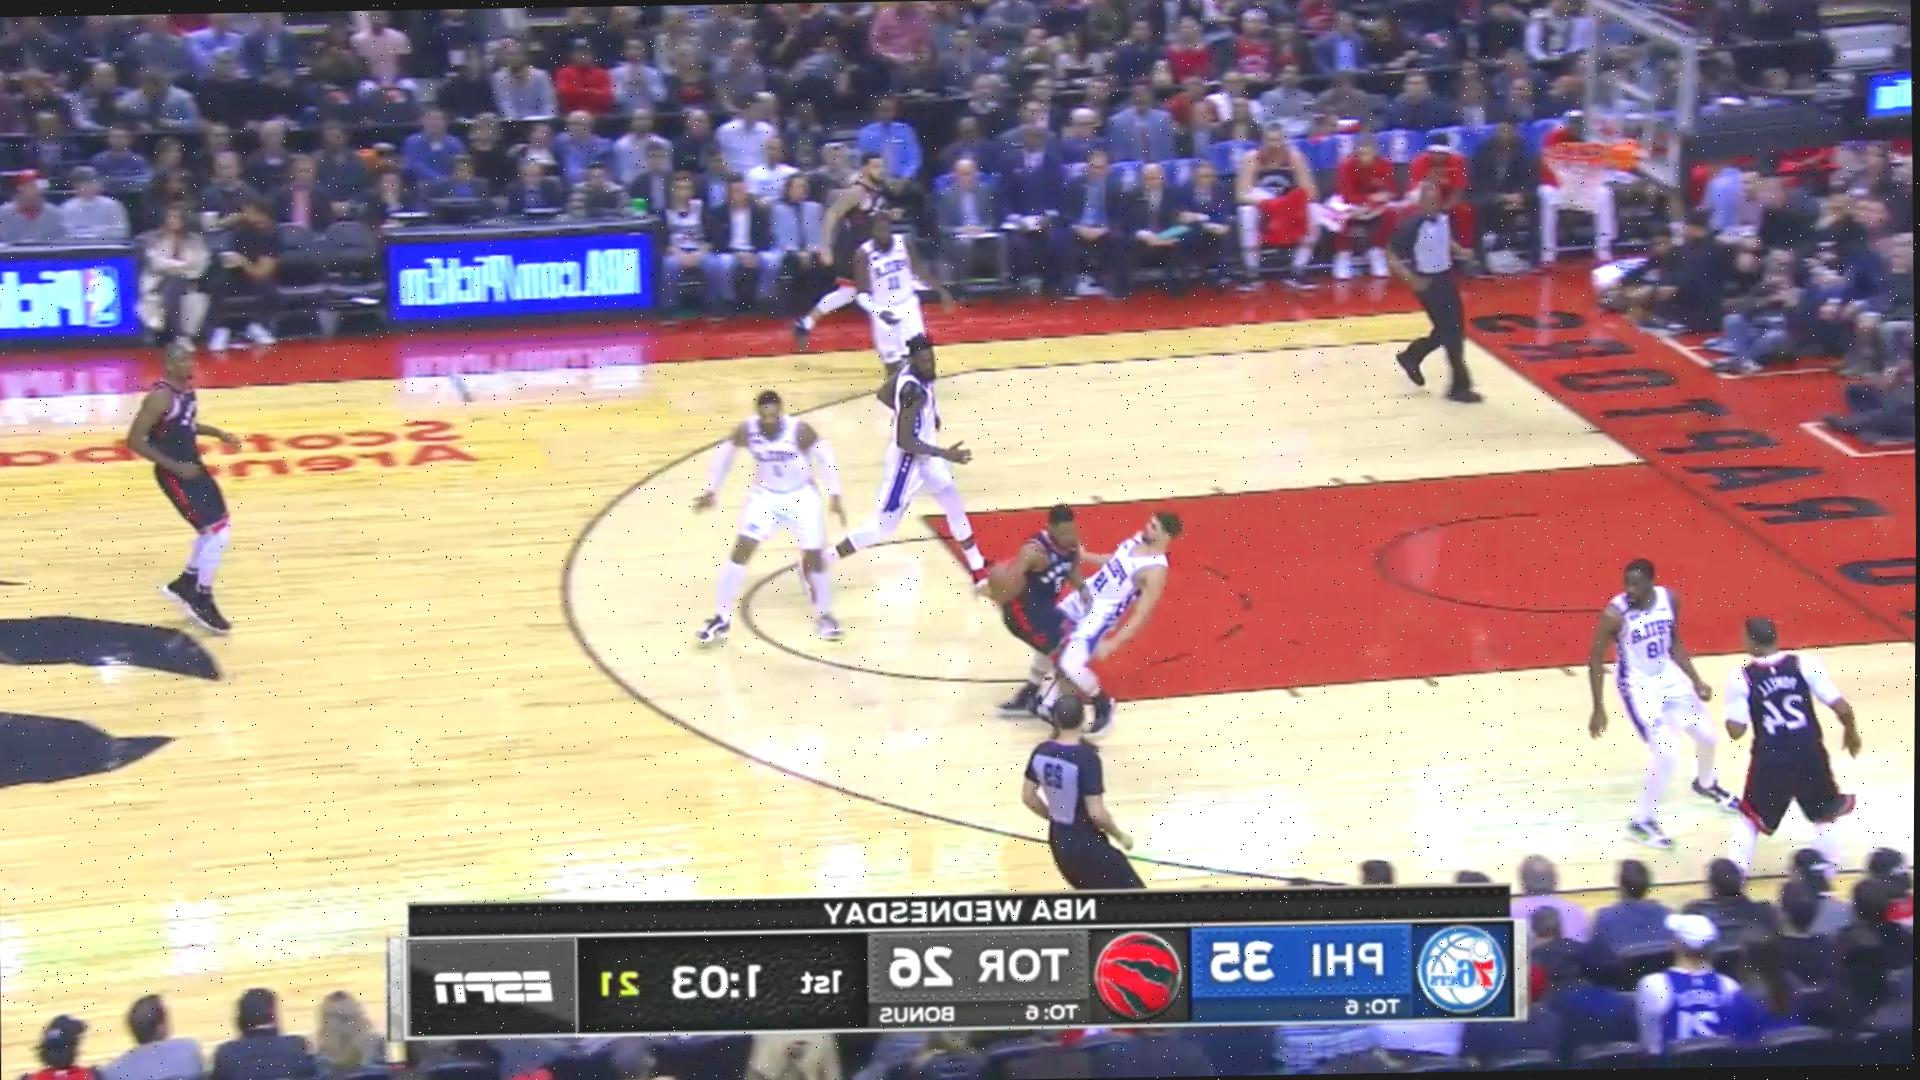foul: (982, 480, 1193, 722)
